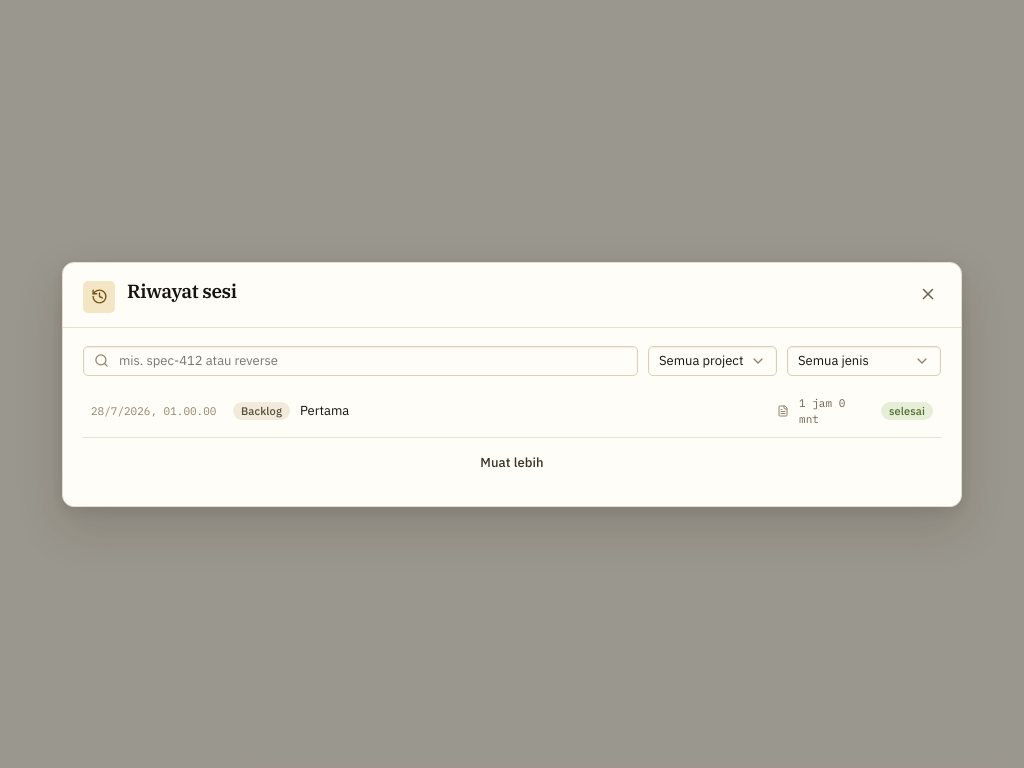
Scenario: SessionHistoryModal (SPEC-362) › Muat lebih MENAMBAH halaman berikutnya, bukan menggantinya
This screenshot has width=1024, height=768.
Expected: the text "Pertama" is shown, [300,402,349,419]
Click the text "Muat lebih".
click(512, 462)  # box [480,456,544,469]
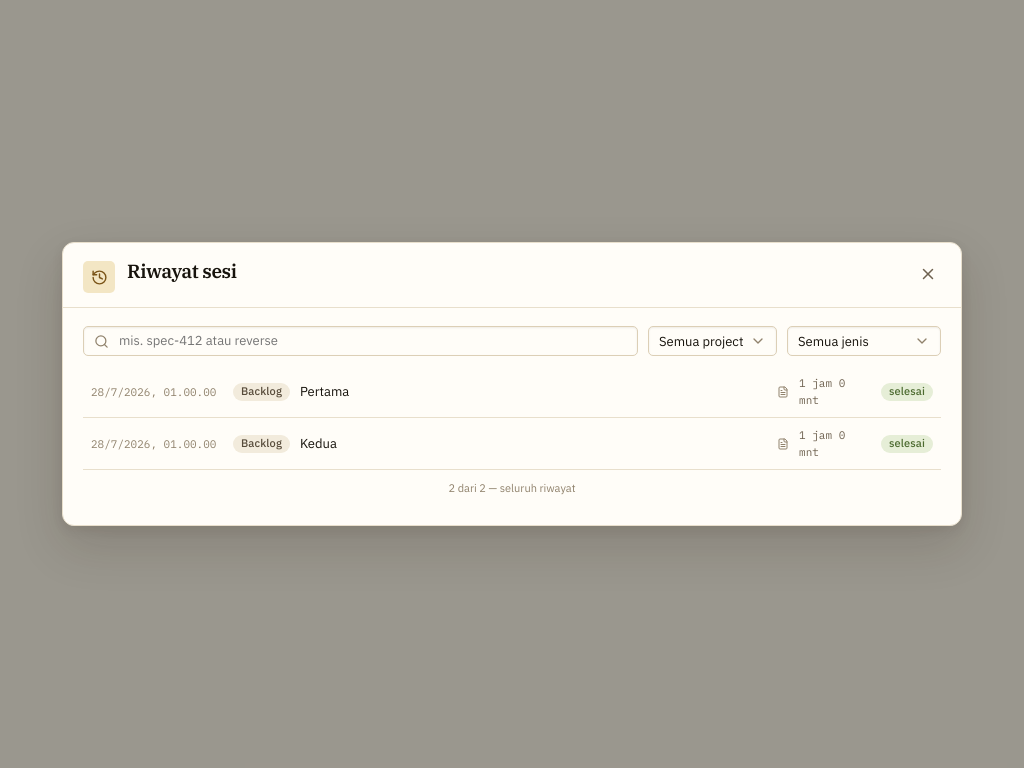
Expected: the text "Pertama" is shown, [300,383,349,400]
Result: the text "Kedua" is shown at [300,435,337,452]
